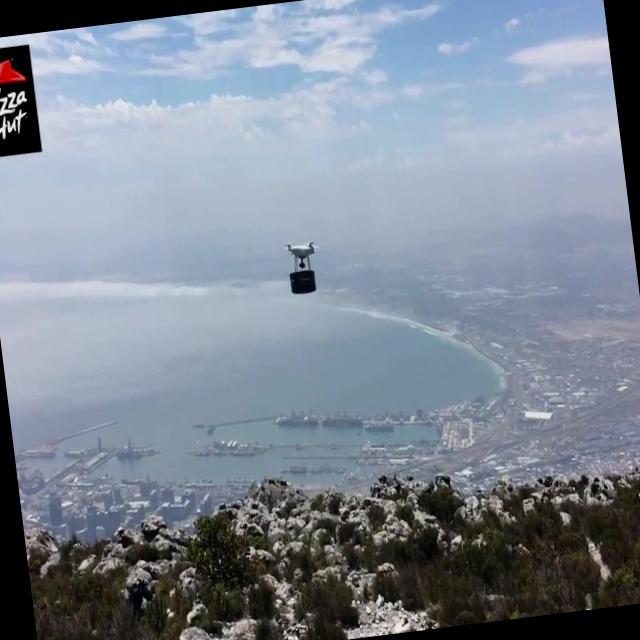drone: (281, 235, 324, 298)
